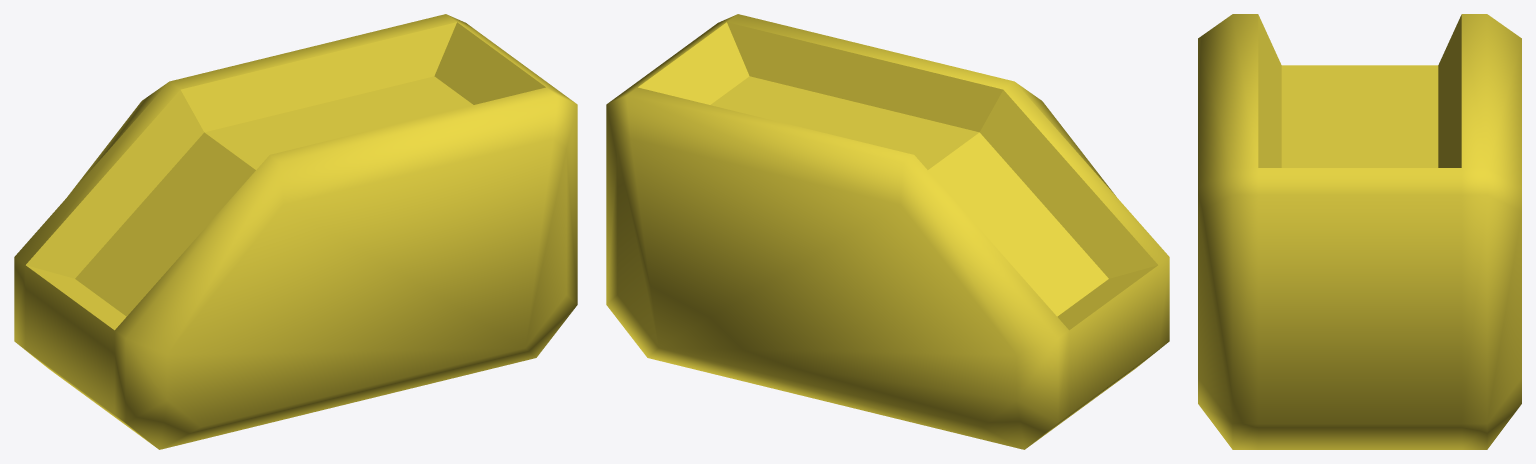
The model's file is SM_DrillBattery.fbx.
3 views of the same model, side by side, from view 1: azimuth 30°, elevation 25°; view 2: azimuth 150°, elevation 25°; view 3: azimuth 270°, elevation 25° (orthographic). The views are drawn at different scales.
Visible parts, largest first — view 1: SM_DrillBattery; view 2: SM_DrillBattery; view 3: SM_DrillBattery.
Part boxes in pixels (x1,y1,x2,y2): SM_DrillBattery: (14, 14, 577, 449); SM_DrillBattery: (606, 14, 1169, 449); SM_DrillBattery: (1198, 14, 1521, 449).
Size of the model in its own units: 10.85 by 5.9 by 5.9.
